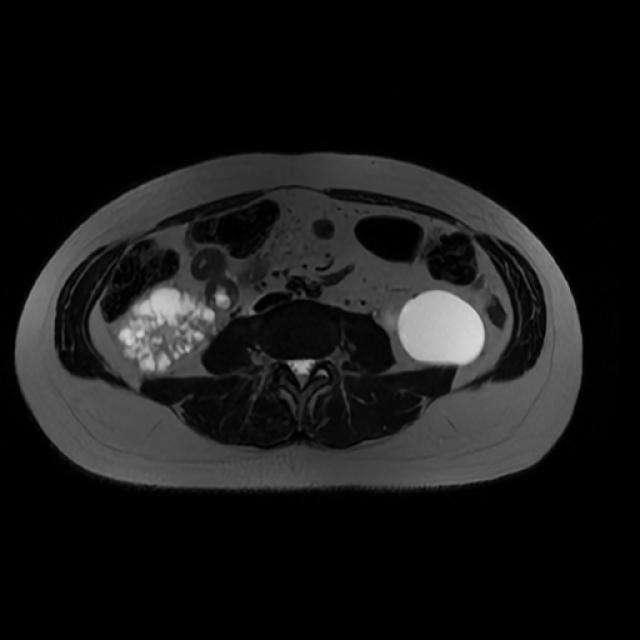sag: (118, 286, 221, 377)
sol: (394, 289, 487, 367)
